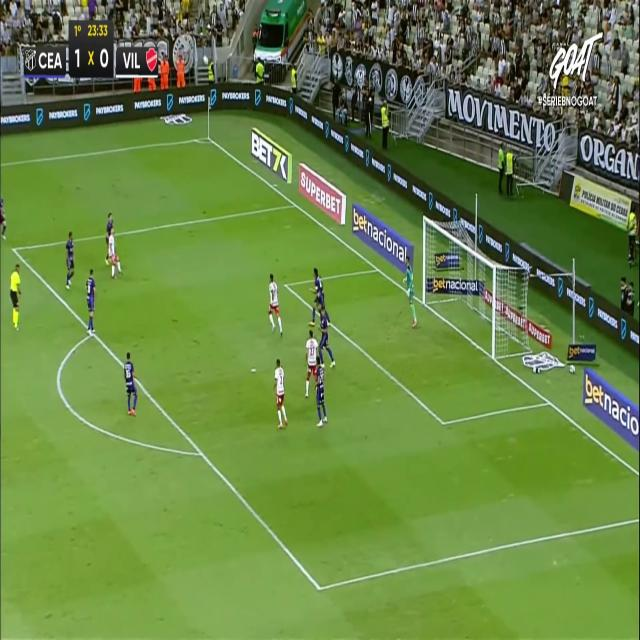ball: (203, 50, 211, 70), (569, 364, 576, 377)
goalkeeper: (404, 264, 418, 326)
player: (306, 265, 331, 329), (314, 355, 328, 428), (105, 220, 122, 278), (273, 358, 287, 428), (319, 306, 335, 367), (305, 328, 318, 400), (123, 352, 137, 415), (268, 273, 282, 335), (85, 267, 96, 334), (65, 230, 74, 289), (106, 210, 114, 265), (0, 190, 7, 240)
referee: (10, 261, 22, 330)
